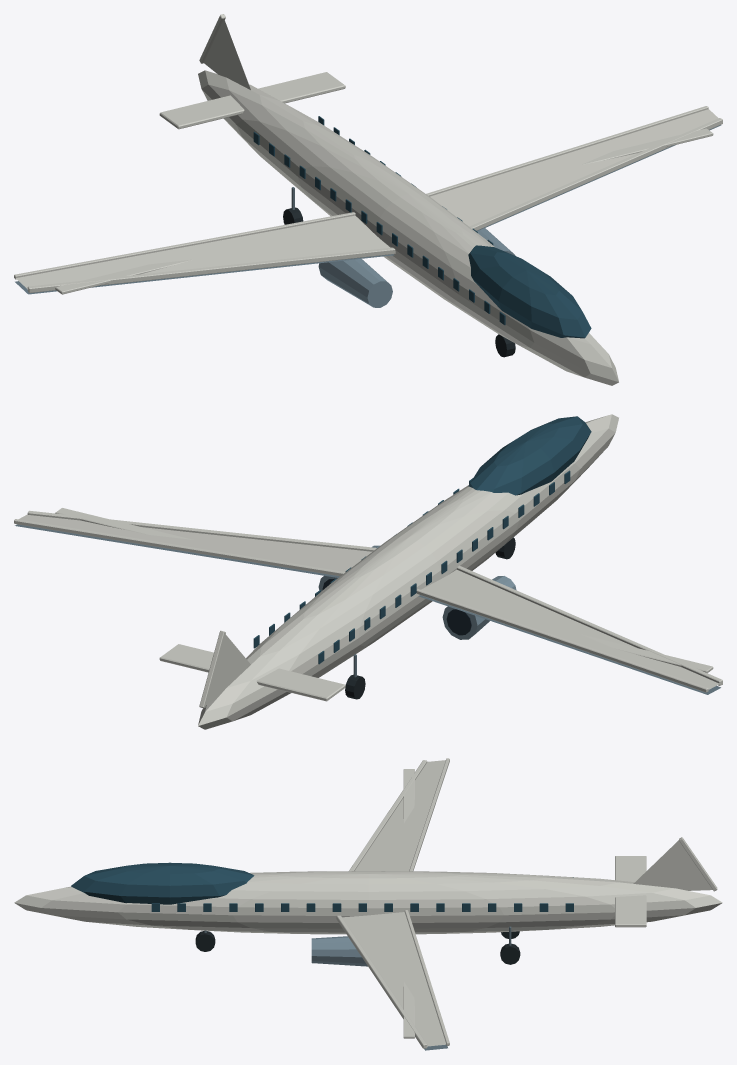
Rendered from aircraft-airliner.lod0.glb.
3 renders of one model, top to bottom at view 1: azimuth 30°, elevation 25°; view 2: azimuth 150°, elevation 25°; view 3: azimuth 270°, elevation 25°, orthographic. The views are drawn at different scales.
Parts seen in each view (by area): view 1: aircraft-airliner__body, aircraft-airliner__aileron_-1, aircraft-airliner__aileron_1; view 2: aircraft-airliner__body, aircraft-airliner__aileron_-1, aircraft-airliner__aileron_1; view 3: aircraft-airliner__body, aircraft-airliner__aileron_1, aircraft-airliner__aileron_-1.
Part boxes in pixels (<box>): aircraft-airliner__body: <box>14,14,722,385</box>; aircraft-airliner__aileron_-1: <box>55,259,193,294</box>; aircraft-airliner__aileron_1: <box>581,128,713,164</box>; aircraft-airliner__body: <box>14,414,722,729</box>; aircraft-airliner__aileron_-1: <box>581,634,713,673</box>; aircraft-airliner__aileron_1: <box>55,508,193,539</box>; aircraft-airliner__body: <box>14,758,722,1050</box>; aircraft-airliner__aileron_1: <box>403,982,414,1038</box>; aircraft-airliner__aileron_-1: <box>403,769,414,822</box>.
Bounding box in the file's own units: 19.03 × 3.5 × 20.
